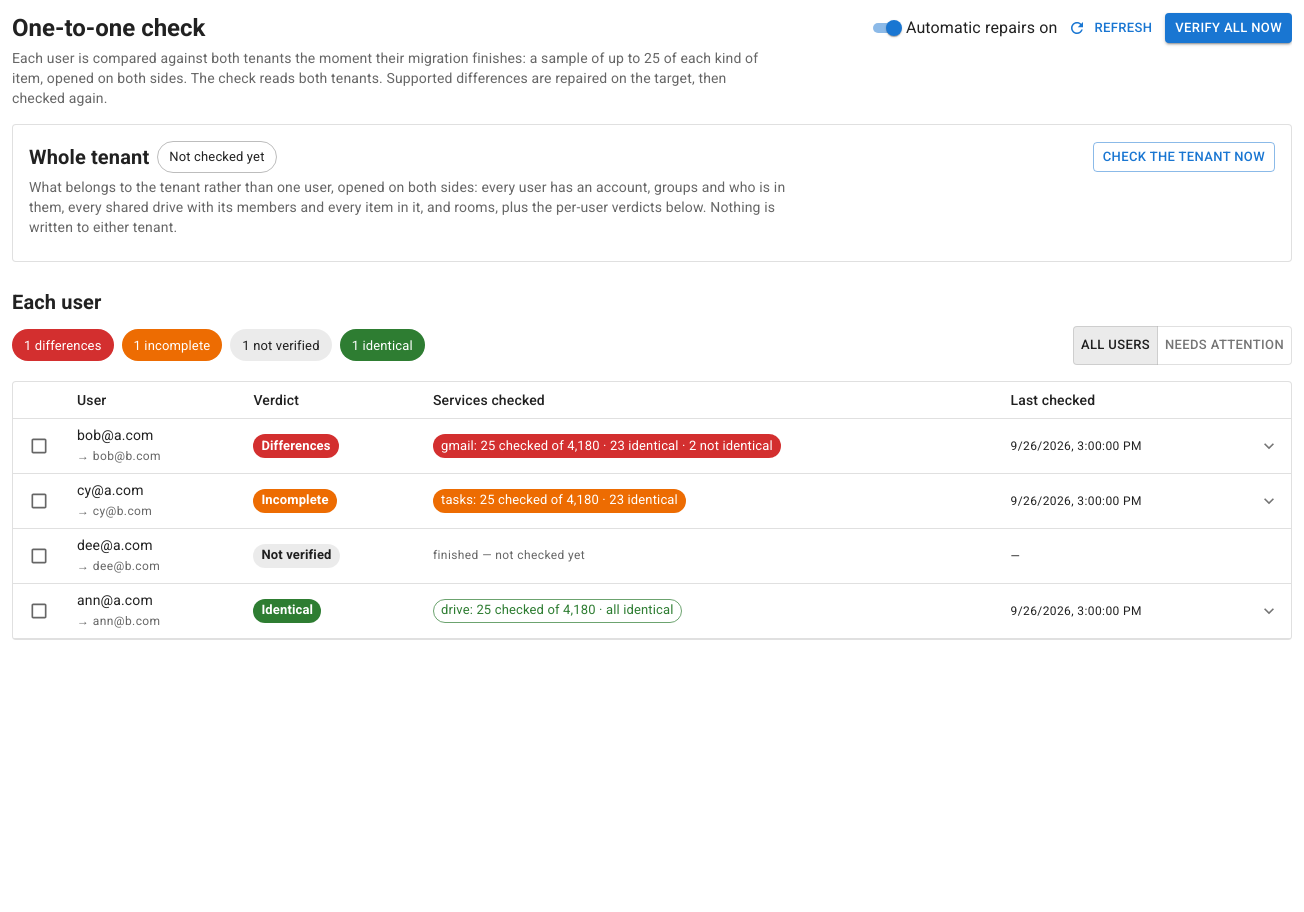
Test case: what is found › opens a user to show the differences the checker kept
The width and height of the screenshot is (1304, 912).
Step 1. Click the button named "show bob@a.com" → (1269, 446), box [1259, 436, 1279, 456]
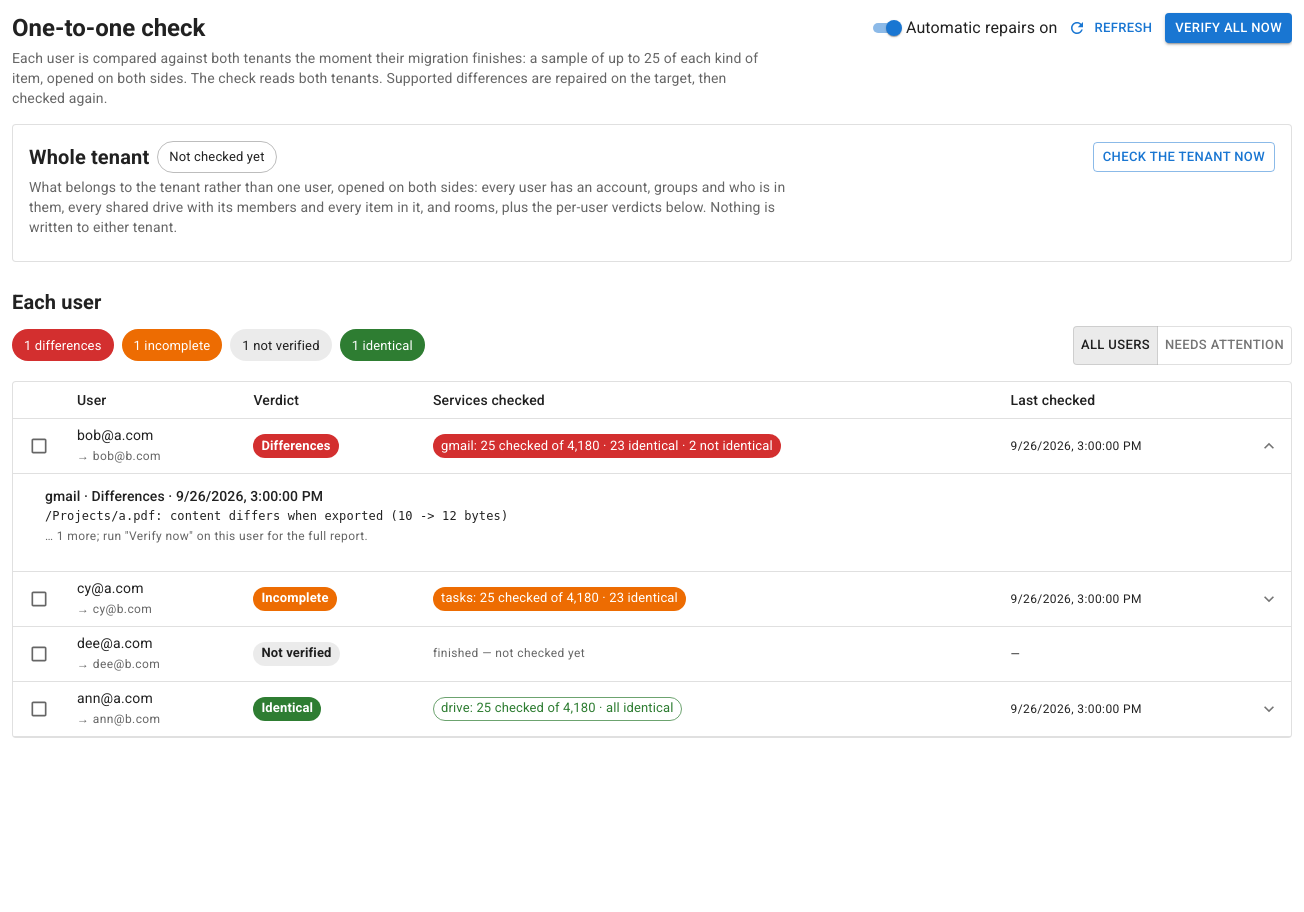
Expected: the text "/Projects/a.pdf" is shown, [45, 509, 508, 523]
